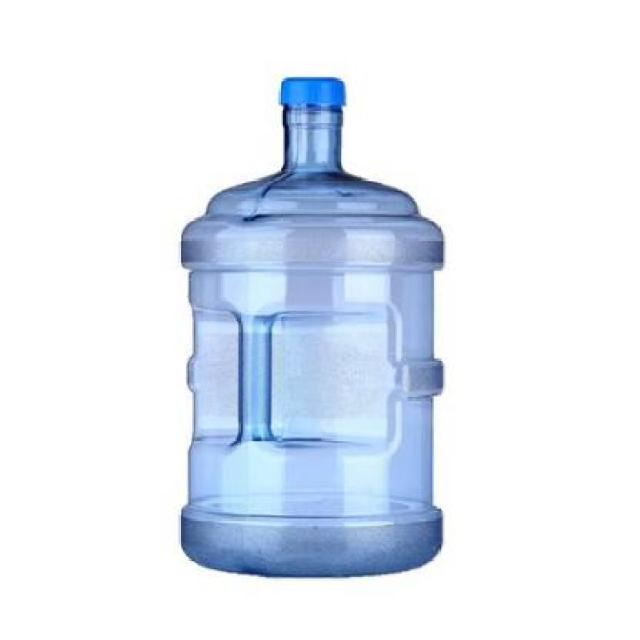coolerbottle: (177, 74, 448, 588)
